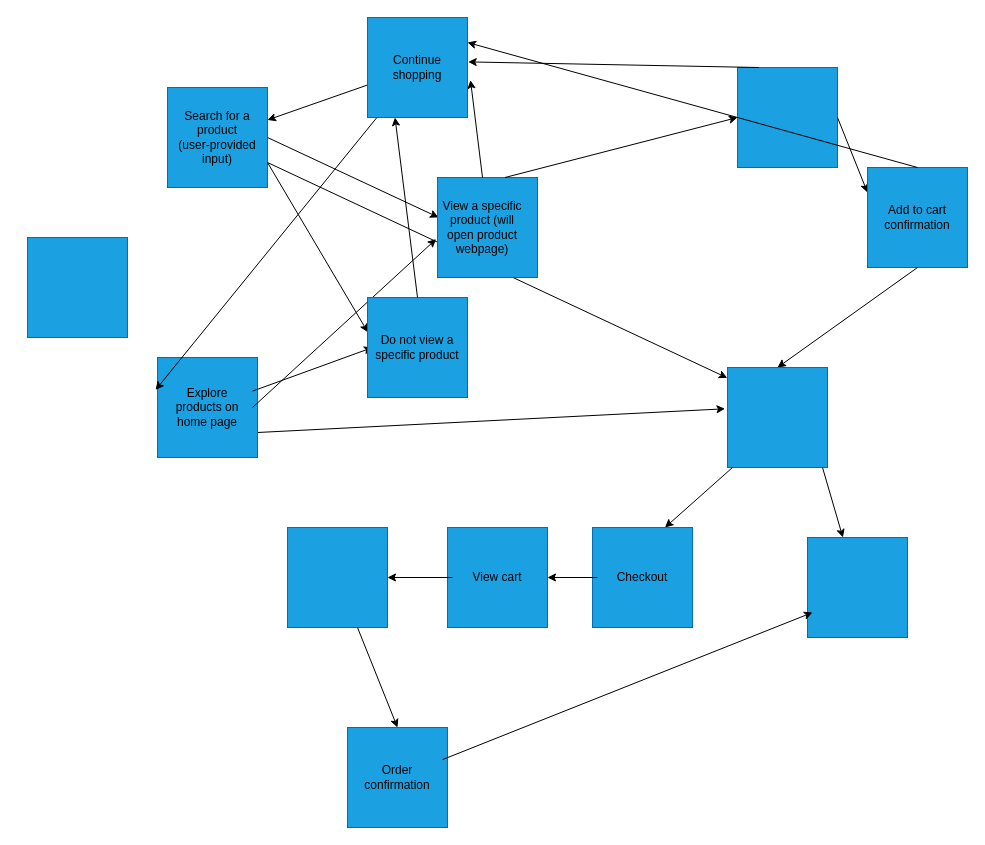
The diagram is 985 pixels wide and 845 high, and some of its shapes have lost their labels. Here are the shapes that lost their labels. From the top down, the box of each, then its label:
(736, 66, 838, 168): Add to cart
(26, 236, 128, 338): Home Page
(726, 366, 828, 468): Do not continue shopping
(286, 526, 388, 628): View payment
(806, 536, 908, 638): Leave website
